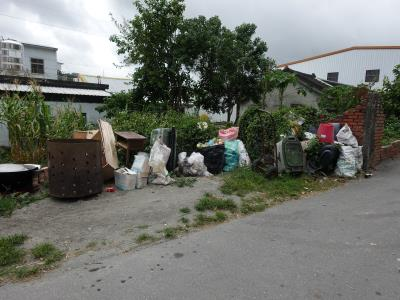box: (111, 166, 139, 192)
bucket: (43, 136, 105, 200), (315, 122, 337, 144)
plastic_bag: (150, 142, 173, 184), (201, 143, 227, 175), (335, 144, 358, 177), (176, 151, 204, 176), (335, 124, 359, 146), (221, 148, 240, 173)
